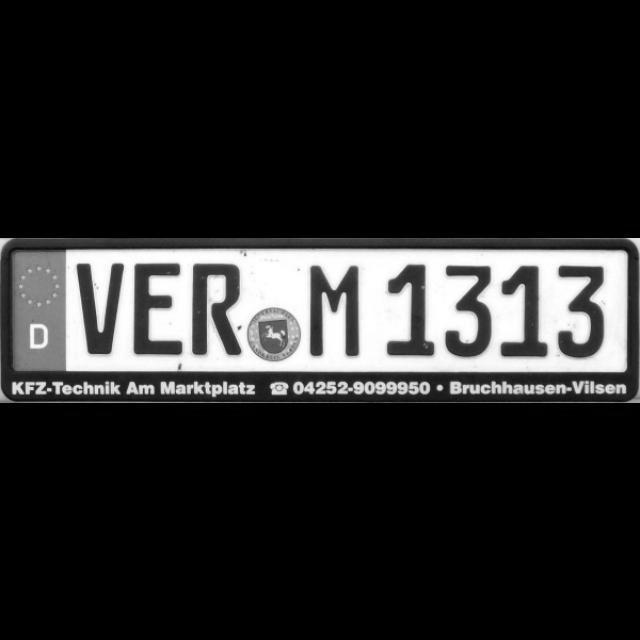licenseplate: (11, 248, 626, 370)
